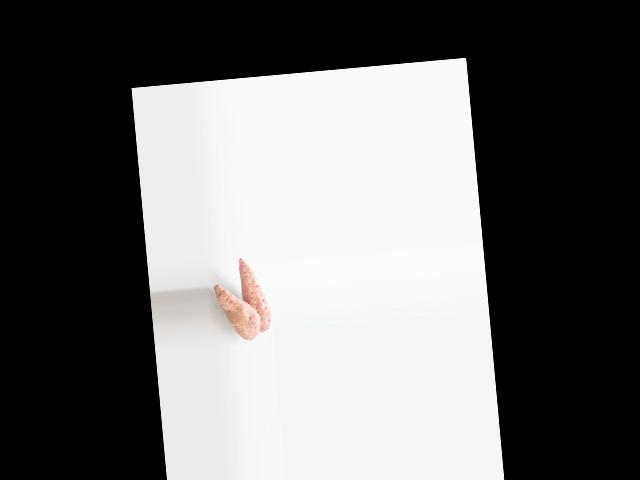sweet_potato: (238, 260, 271, 333)
